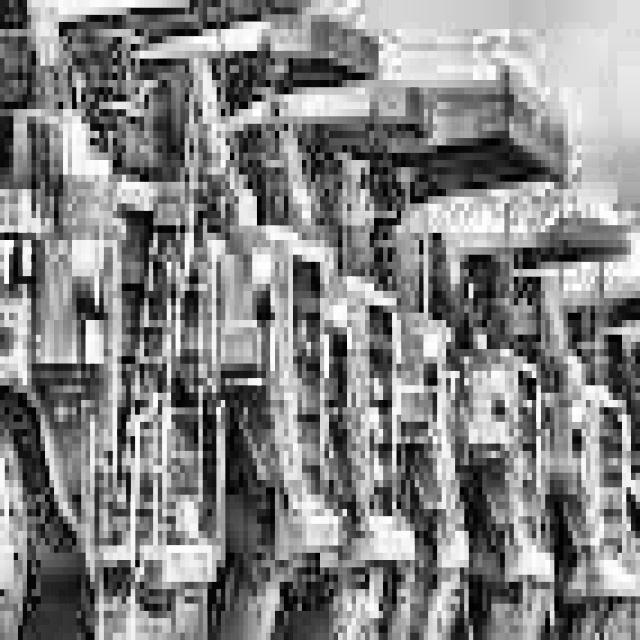dump_truck: (9, 0, 279, 640)
